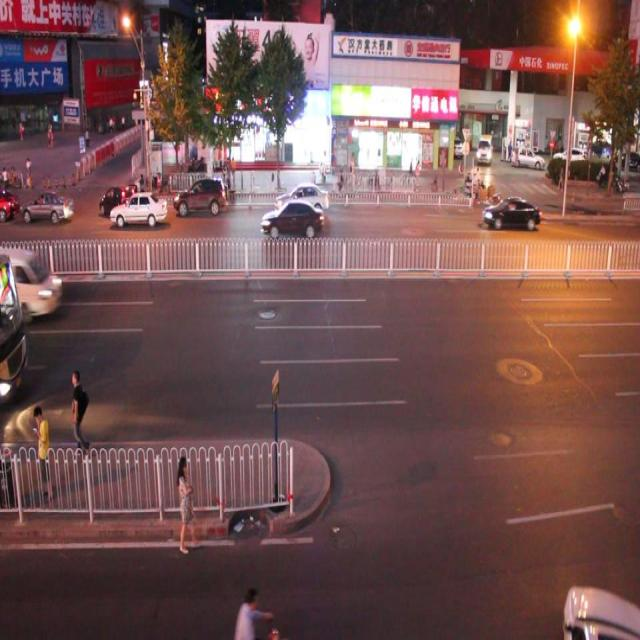car: (260, 199, 325, 240), (480, 194, 540, 235), (172, 175, 228, 216), (111, 190, 168, 228), (19, 189, 75, 226), (276, 180, 330, 217), (101, 180, 145, 223)
